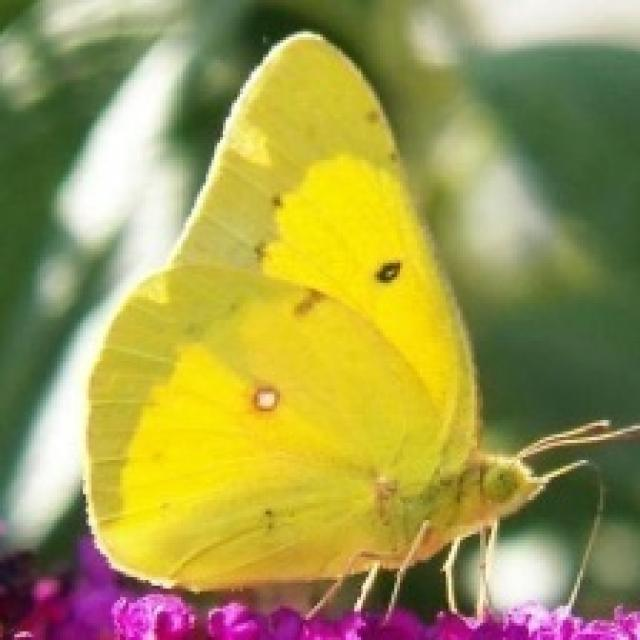butterfly: (77, 29, 637, 626)
